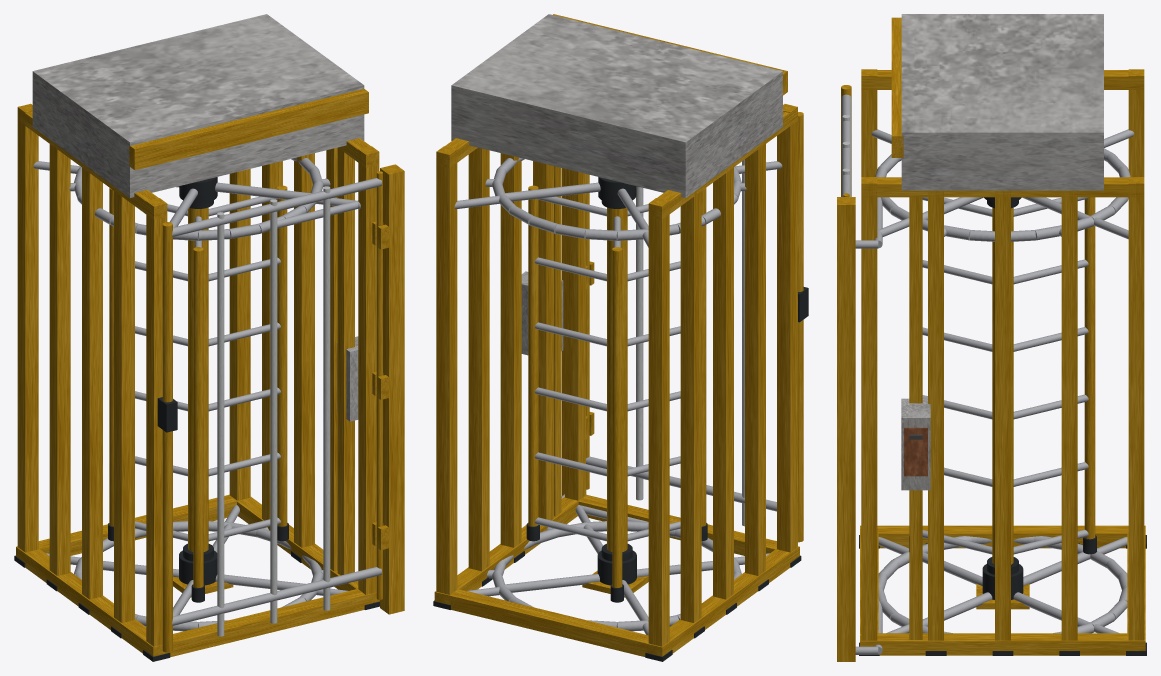
File: pictureX_0611_full_height_turnstile__0000.glb
3 views of the same model, side by side, from view 1: azimuth 30°, elevation 25°; view 2: azimuth 150°, elevation 25°; view 3: azimuth 270°, elevation 25° (orthographic). The views are drawn at different scales.
Visible parts, largest first — view 1: guard_frame::header_form__flat_header__housing_slab, second_mechanism__service_guard_leaf__leaf::second_mechanism (×8), guard_frame::second_mechanism__service_guard_leaf__hinge_pos, guard_frame::guard_frame__portal_post_frame__post_4, guard_frame::guard_frame__portal_post_frame__post_3, guard_frame::guard_frame__portal_post_frame__post_1, guard_frame::guard_frame__portal_post_frame__post_2, guard_frame::guard_frame__portal_post_frame__post_5, guard_frame::guard_frame__portal_post_frame__post_7, guard_frame::guard_frame__portal_post_frame__post_0, guard_frame::guard_frame__access_strap, guard_frame::header_form__flat_header__fascia (+19 smaller); view 2: guard_frame::header_form__flat_header__housing_slab, guard_frame::guard_frame__portal_post_frame__post_9, guard_frame::guard_frame__portal_post_frame__post_4, guard_frame::guard_frame__portal_post_frame__post_3, guard_frame::guard_frame__portal_post_frame__post_8, guard_frame::guard_frame__portal_post_frame__post_0, guard_frame::guard_frame__portal_post_frame__post_1, guard_frame::guard_frame__portal_post_frame__post_2, guard_frame::guard_frame__portal_post_frame__post_7, second_mechanism__service_guard_leaf__leaf::second_mechanism (×5), guard_frame::guard_frame__portal_post_frame__post_5, guard_frame::guard_frame__portal_post_frame__post_6 (+23 smaller); view 3: guard_frame::header_form__flat_header__housing_slab, guard_frame::second_mechanism__service_guard_leaf__hinge_pos, guard_frame::guard_frame__portal_post_frame__post_9, guard_frame::guard_frame__portal_post_frame__post_5, guard_frame::guard_frame__portal_post_frame__post_8, guard_frame::guard_frame__portal_post_frame__post_7, guard_frame::guard_frame__portal_post_frame__post_6, guard_frame::guard_frame__portal_post_frame__base_rail_1, guard_frame::guard_frame__access_strap, rotor::rotor_form__arm_tier_rotor__wing_tip_1, guard_frame::guard_frame__portal_post_frame__head_rail_1, guard_frame::guard_frame__portal_post_frame__base_rail_0 (+21 smaller).
Boxes of the visible parts, <box> form: guard_frame::header_form__flat_header__housing_slab: <box>32,14,364,197</box>; second_mechanism__service_guard_leaf__leaf::second_mechanism (×8): <box>157,171,382,652</box>; guard_frame::second_mechanism__service_guard_leaf__hinge_pos: <box>380,164,404,614</box>; guard_frame::guard_frame__portal_post_frame__post_4: <box>17,103,38,552</box>; guard_frame::guard_frame__portal_post_frame__post_3: <box>49,140,70,575</box>; guard_frame::guard_frame__portal_post_frame__post_1: <box>114,188,134,622</box>; guard_frame::guard_frame__portal_post_frame__post_2: <box>82,165,102,599</box>; guard_frame::guard_frame__portal_post_frame__post_5: <box>358,146,379,594</box>; guard_frame::guard_frame__portal_post_frame__post_7: <box>294,153,314,547</box>; guard_frame::guard_frame__portal_post_frame__post_0: <box>146,198,167,646</box>; guard_frame::guard_frame__access_strap: <box>337,148,354,575</box>; guard_frame::header_form__flat_header__fascia: <box>129,89,368,170</box>; guard_frame::header_form__flat_header__housing_slab: <box>451,14,782,198</box>; guard_frame::guard_frame__portal_post_frame__post_9: <box>436,146,457,594</box>; guard_frame::guard_frame__portal_post_frame__post_4: <box>648,198,669,646</box>; guard_frame::guard_frame__portal_post_frame__post_3: <box>680,189,701,622</box>; guard_frame::guard_frame__portal_post_frame__post_8: <box>468,147,489,571</box>; guard_frame::guard_frame__portal_post_frame__post_0: <box>777,104,797,552</box>; guard_frame::guard_frame__portal_post_frame__post_1: <box>745,140,765,575</box>; guard_frame::guard_frame__portal_post_frame__post_2: <box>713,167,733,599</box>; guard_frame::guard_frame__portal_post_frame__post_7: <box>500,153,521,547</box>; second_mechanism__service_guard_leaf__leaf::second_mechanism (×5): <box>586,112,803,542</box>; guard_frame::guard_frame__portal_post_frame__post_5: <box>565,169,585,500</box>; guard_frame::guard_frame__portal_post_frame__post_6: <box>533,161,553,520</box>; guard_frame::header_form__flat_header__housing_slab: <box>901,14,1103,190</box>; guard_frame::second_mechanism__service_guard_leaf__hinge_pos: <box>837,197,855,661</box>; guard_frame::guard_frame__portal_post_frame__post_9: <box>1128,177,1144,640</box>; guard_frame::guard_frame__portal_post_frame__post_5: <box>861,177,877,640</box>; guard_frame::guard_frame__portal_post_frame__post_8: <box>1061,190,1077,640</box>; guard_frame::guard_frame__portal_post_frame__post_7: <box>995,190,1010,640</box>; guard_frame::guard_frame__portal_post_frame__post_6: <box>928,190,943,640</box>; guard_frame::guard_frame__portal_post_frame__base_rail_1: <box>860,633,1145,655</box>; guard_frame::guard_frame__access_strap: <box>909,197,922,639</box>; rotor::rotor_form__arm_tier_rotor__wing_tip_1: <box>1084,197,1095,539</box>; guard_frame::guard_frame__portal_post_frame__head_rail_1: <box>861,177,1144,197</box>; guard_frame::guard_frame__portal_post_frame__base_rail_0: <box>860,525,1145,548</box>.
Size of the model in its own units: 1.17 by 2.17 by 1.16.
Materials: 8 (8 with a texture image).
